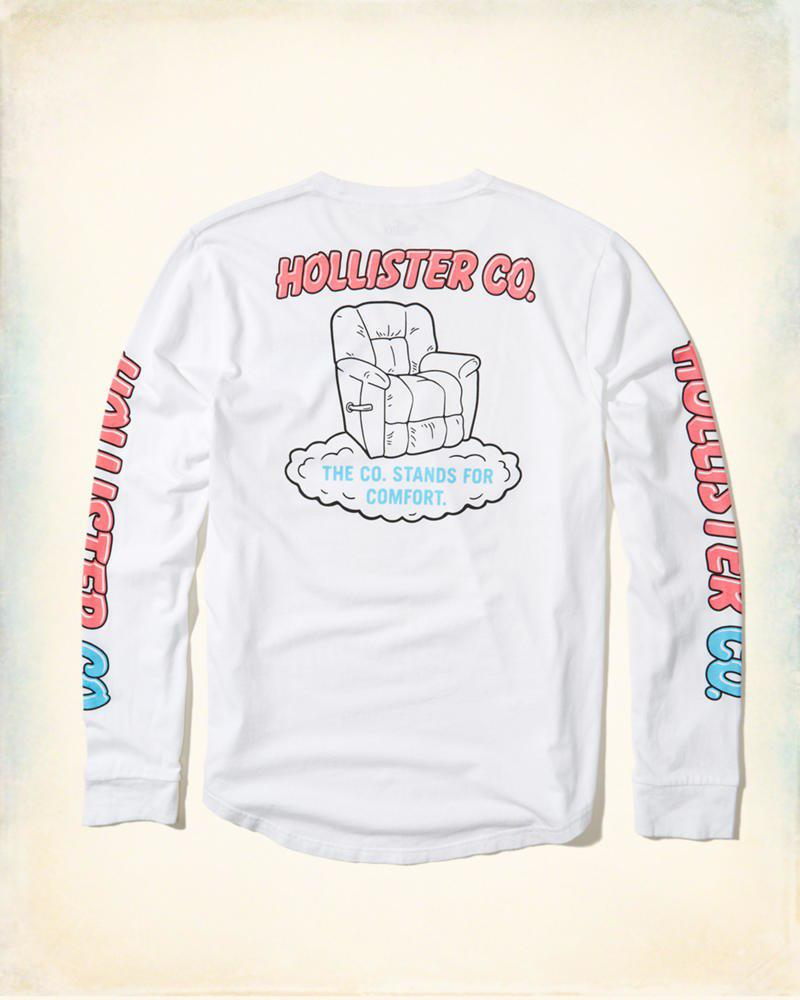teeshirt: (35, 159, 789, 943)
